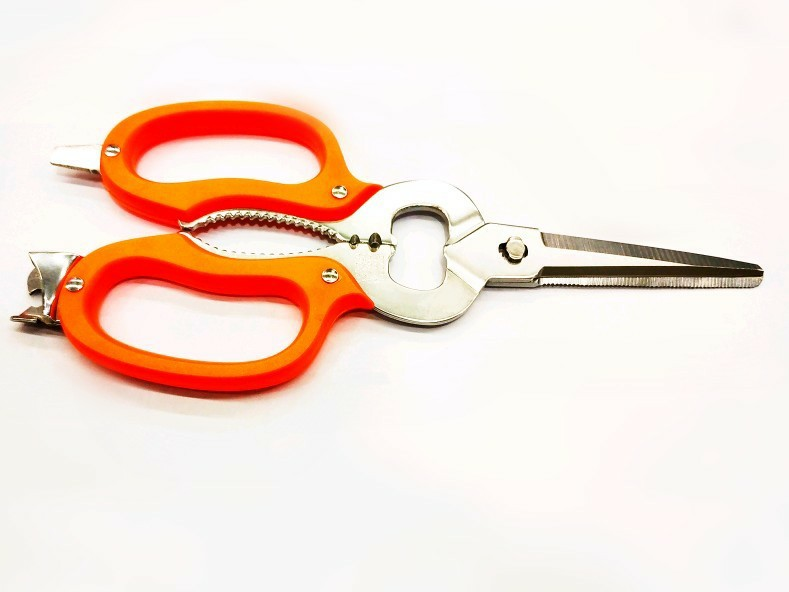scissors: (9, 95, 769, 399)
